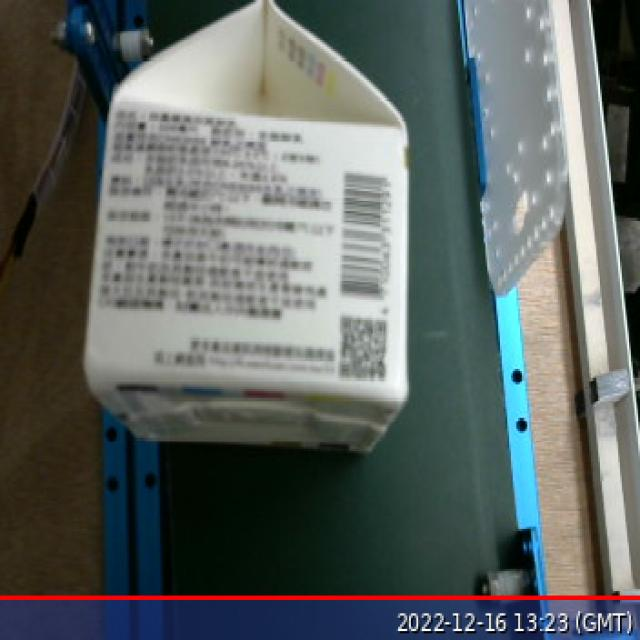non_white_jug: (75, 0, 420, 463)
